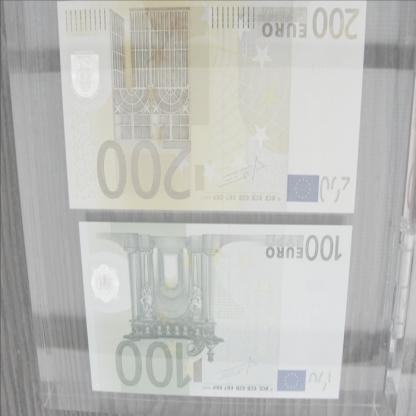euro_banknote: (56, 3, 367, 213), (77, 223, 352, 396)
